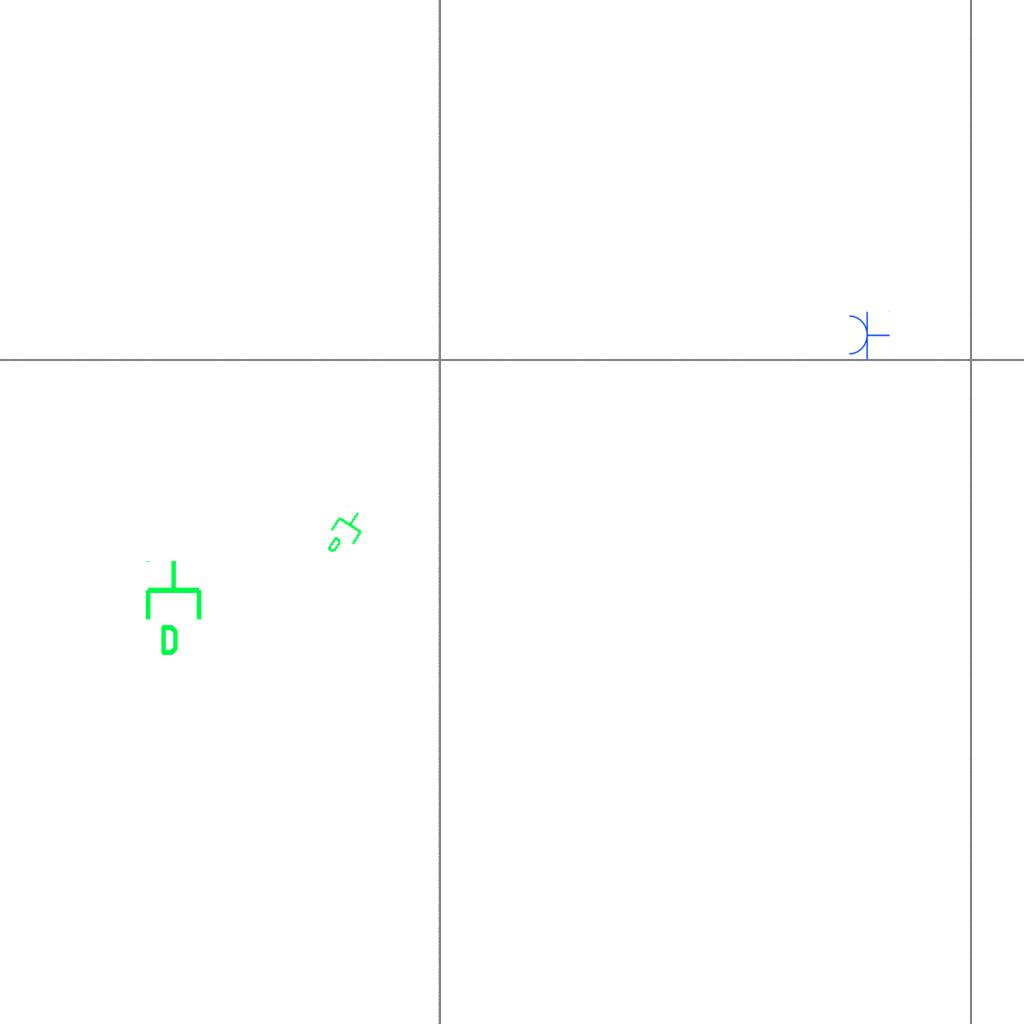Datenanschluss_einfach: (141, 558, 210, 658), (318, 502, 374, 564)
Schukosteckdose_einfach: (847, 310, 890, 360)
